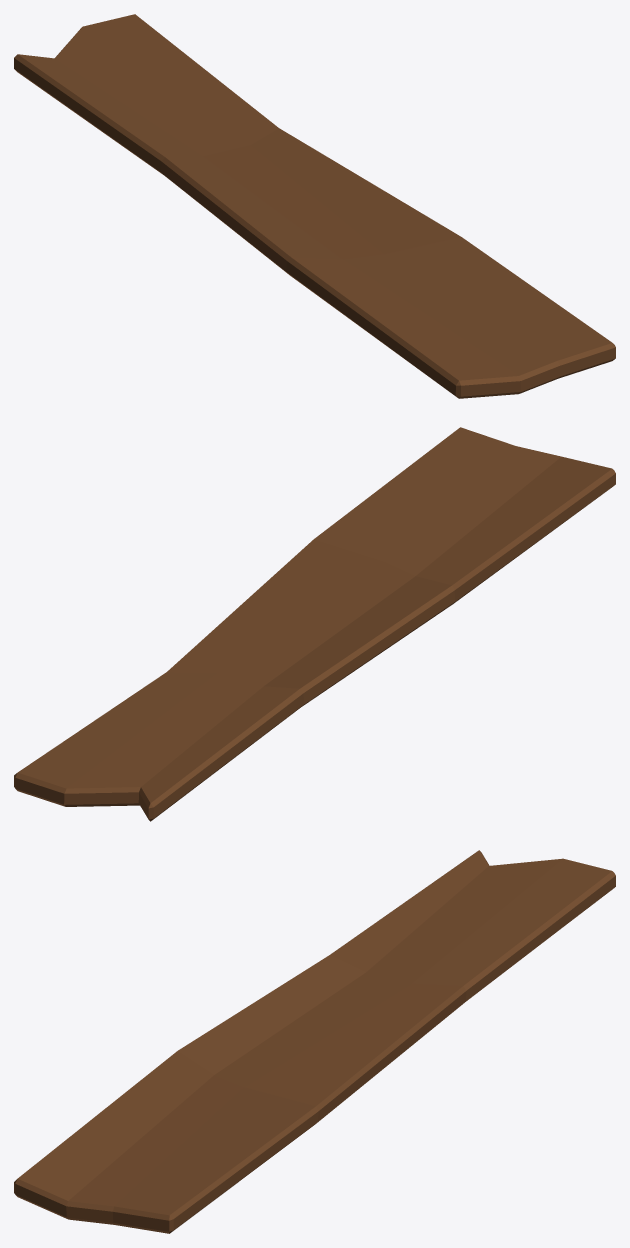
Rendered from plank.fbx.
The picture shows the model from 3 angles, top to bottom: view 1: azimuth 30°, elevation 25°; view 2: azimuth 150°, elevation 25°; view 3: azimuth 330°, elevation 25°; orthographic projection.
Visible parts, largest first — view 1: Cube.001; view 2: Cube.001; view 3: Cube.001.
Boxes of the visible parts, left/top/right/bottom form: Cube.001: left=14, top=14, right=615, bottom=398; Cube.001: left=14, top=427, right=615, bottom=821; Cube.001: left=14, top=850, right=615, bottom=1233.
Bounding box in the file's own units: 95.58 × 16.33 × 471.
